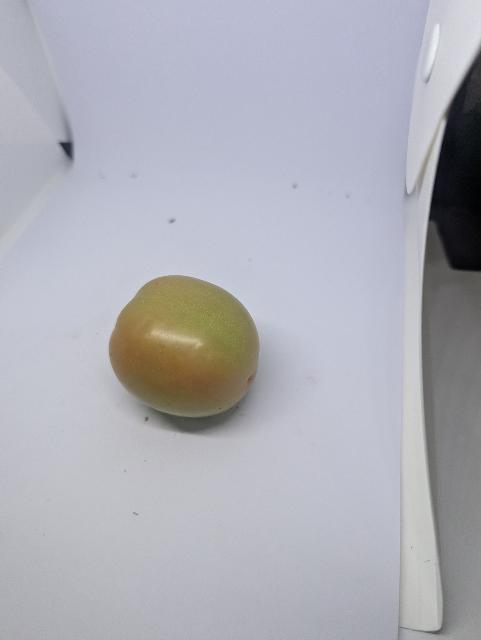breaker: (109, 275, 260, 417)
